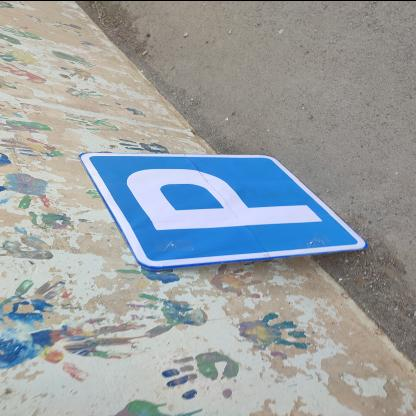Parking-Sign: (78, 153, 368, 269)
